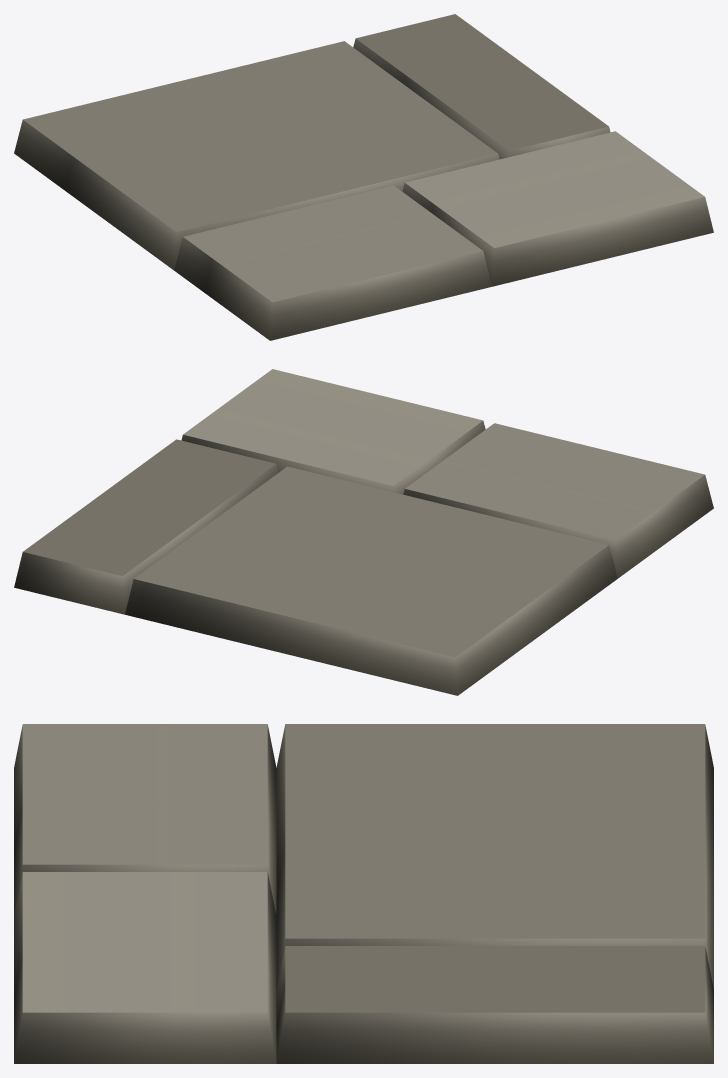
File: Pavement_2J_4X4.fbx
3 renders of one model, top to bottom at view 1: azimuth 30°, elevation 25°; view 2: azimuth 150°, elevation 25°; view 3: azimuth 270°, elevation 25°, orthographic. The views are drawn at different scales.
Visible parts, largest first — view 1: Pavement_2J_4X4; view 2: Pavement_2J_4X4; view 3: Pavement_2J_4X4.
Boxes of the visible parts, x1,y1,x2,y2 form: Pavement_2J_4X4: [14, 14, 713, 340]; Pavement_2J_4X4: [14, 369, 713, 695]; Pavement_2J_4X4: [14, 724, 713, 1063].
Size of the model in its own units: 400 by 30 by 400.
